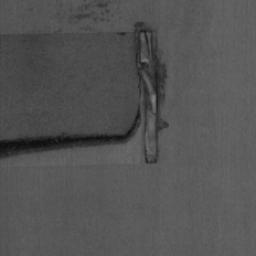Rolled pit: (0, 23, 168, 163), (74, 12, 98, 21), (96, 1, 108, 8)
